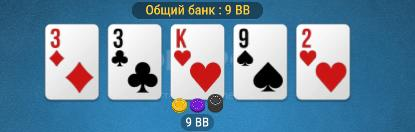2h: (297, 25, 349, 98)
3c: (108, 25, 161, 98)
3d: (45, 25, 98, 99)
9s: (234, 25, 287, 98)
Kh: (172, 25, 224, 98)
